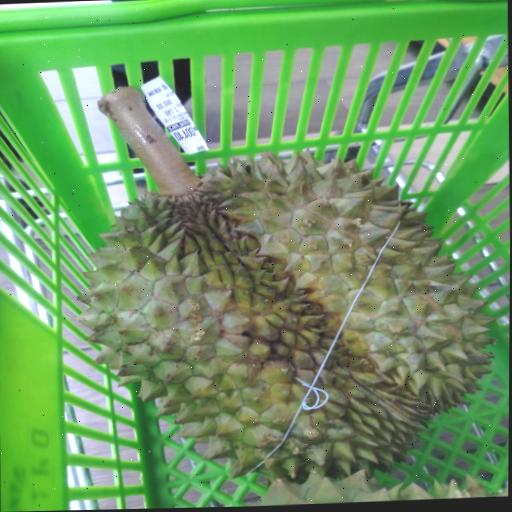rot: (63, 15, 495, 511)
